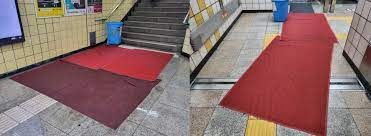guide_blocks: (1, 95, 57, 136), (246, 115, 276, 136)
